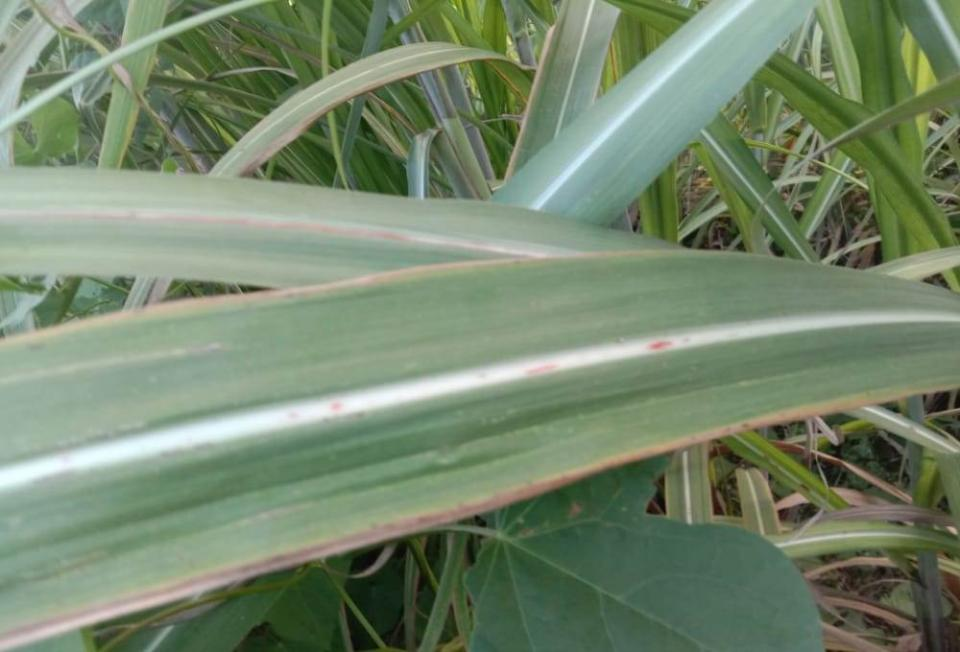RedRot: (0, 209, 414, 242), (643, 335, 693, 351), (523, 363, 560, 376), (330, 401, 346, 412)
